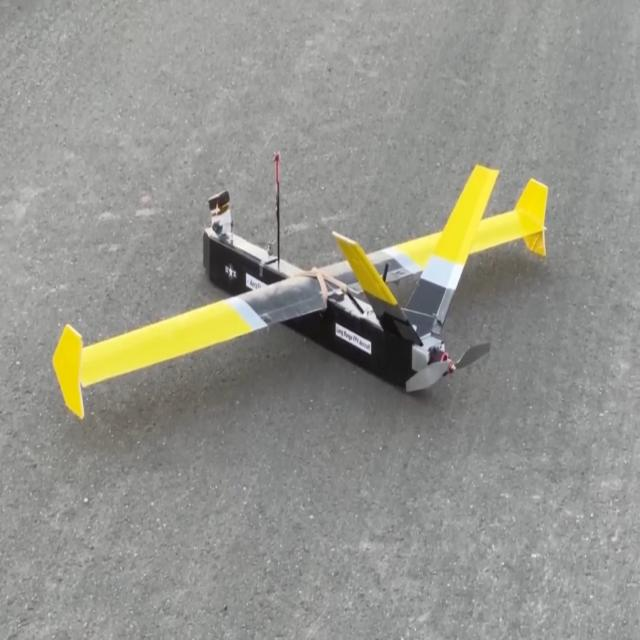iha: (53, 164, 549, 418)
